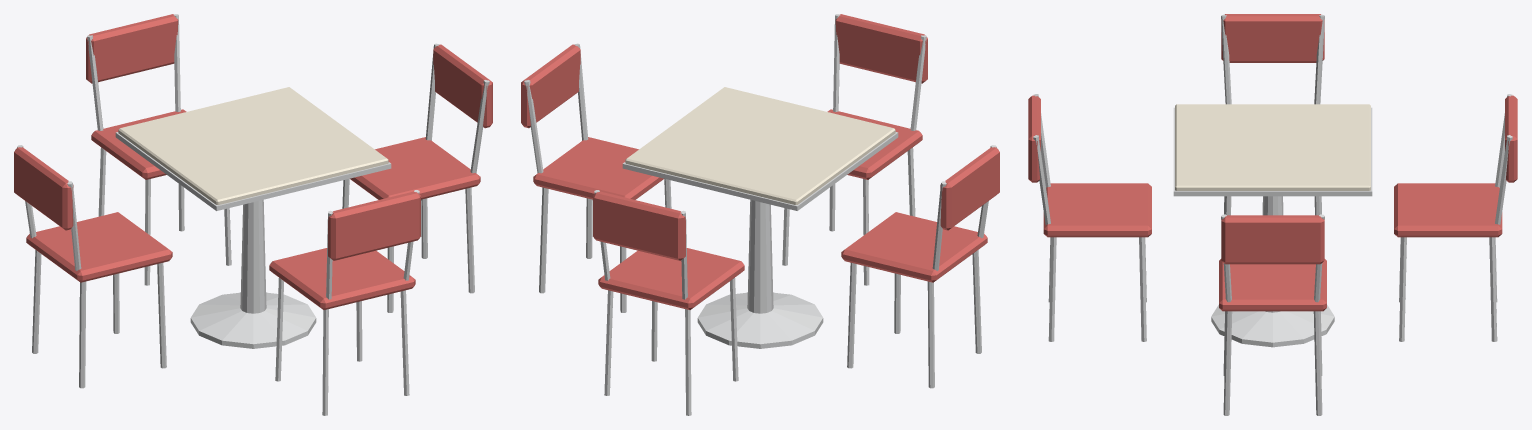
Rendered from cafe_table.glb.
3 views of the same model, side by side, from view 1: azimuth 30°, elevation 25°; view 2: azimuth 150°, elevation 25°; view 3: azimuth 270°, elevation 25° (orthographic).
Parts seen in each view (by area): view 1: cafe_table_booth, cafe_table_steel, cafe_table_formica; view 2: cafe_table_booth, cafe_table_steel, cafe_table_formica; view 3: cafe_table_booth, cafe_table_formica, cafe_table_steel.
Part boxes in pixels (x1,y1,x2,y2): cafe_table_booth: (14, 14, 492, 309); cafe_table_steel: (17, 14, 489, 415); cafe_table_formica: (118, 87, 388, 205); cafe_table_booth: (521, 14, 999, 309); cafe_table_steel: (524, 14, 996, 415); cafe_table_formica: (625, 87, 895, 205); cafe_table_booth: (1028, 14, 1517, 311); cafe_table_formica: (1175, 104, 1370, 190); cafe_table_steel: (1033, 14, 1512, 415).
Size of the model in its own units: 1.9 by 0.882 by 1.9.
